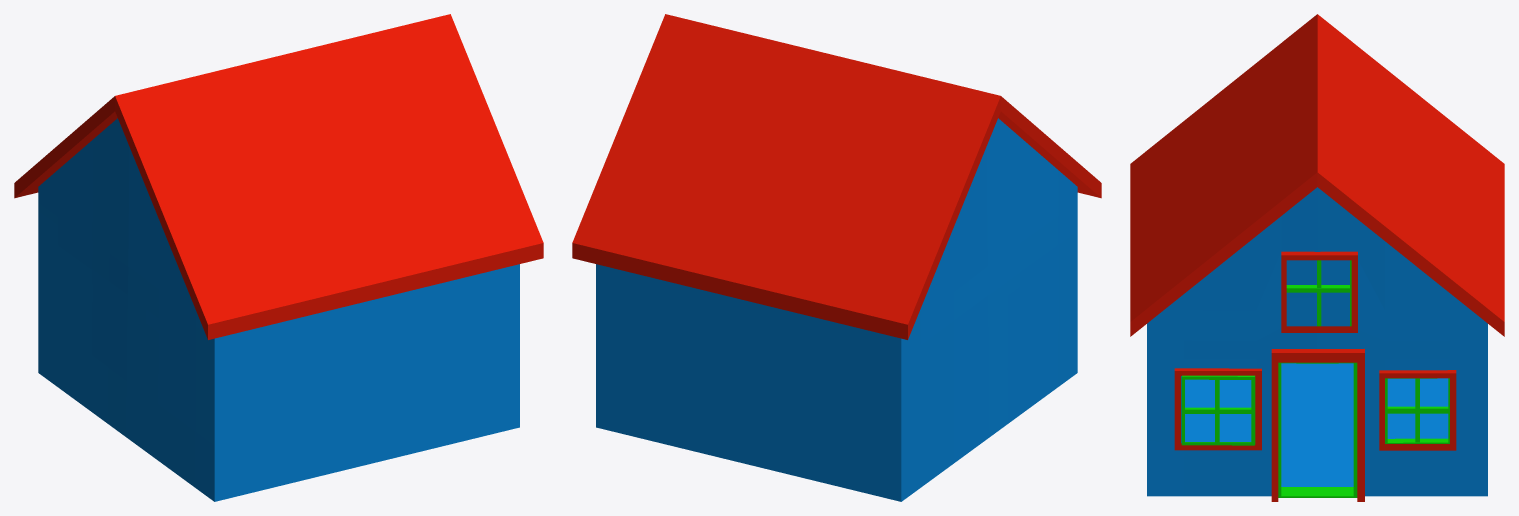
The model's file is house 2.fbx.
The picture shows the model from 3 angles, left to right: view 1: azimuth 30°, elevation 25°; view 2: azimuth 150°, elevation 25°; view 3: azimuth 270°, elevation 25°; orthographic projection. The views are drawn at different scales.
Parts seen in each view (by area): view 1: Cube.001, Cube; view 2: Cube.001, Cube; view 3: Cube, Cube.001, Cube.014, Cube.011, Cube.012, Cube.002, Cube.013, Cube.004, Cube.003, Cube.009, Cube.006.
Part boxes in pixels (left/top/right/bottom): Cube.001: left=14, top=14, right=543, bottom=339; Cube: left=38, top=118, right=519, bottom=501; Cube.001: left=572, top=14, right=1101, bottom=339; Cube: left=596, top=118, right=1077, bottom=501; Cube: left=1147, top=187, right=1487, bottom=496; Cube.001: left=1130, top=14, right=1504, bottom=336; Cube.014: left=1271, top=348, right=1364, bottom=501; Cube.011: left=1174, top=368, right=1261, bottom=450; Cube.012: left=1281, top=251, right=1357, bottom=332; Cube.002: left=1278, top=362, right=1357, bottom=497; Cube.013: left=1379, top=370, right=1456, bottom=450; Cube.004: left=1181, top=375, right=1255, bottom=445; Cube.003: left=1385, top=378, right=1449, bottom=443; Cube.009: left=1286, top=285, right=1349, bottom=292; Cube.006: left=1387, top=406, right=1448, bottom=413.
Bounding box in the file's own units: 1112 × 1081 × 1099.
